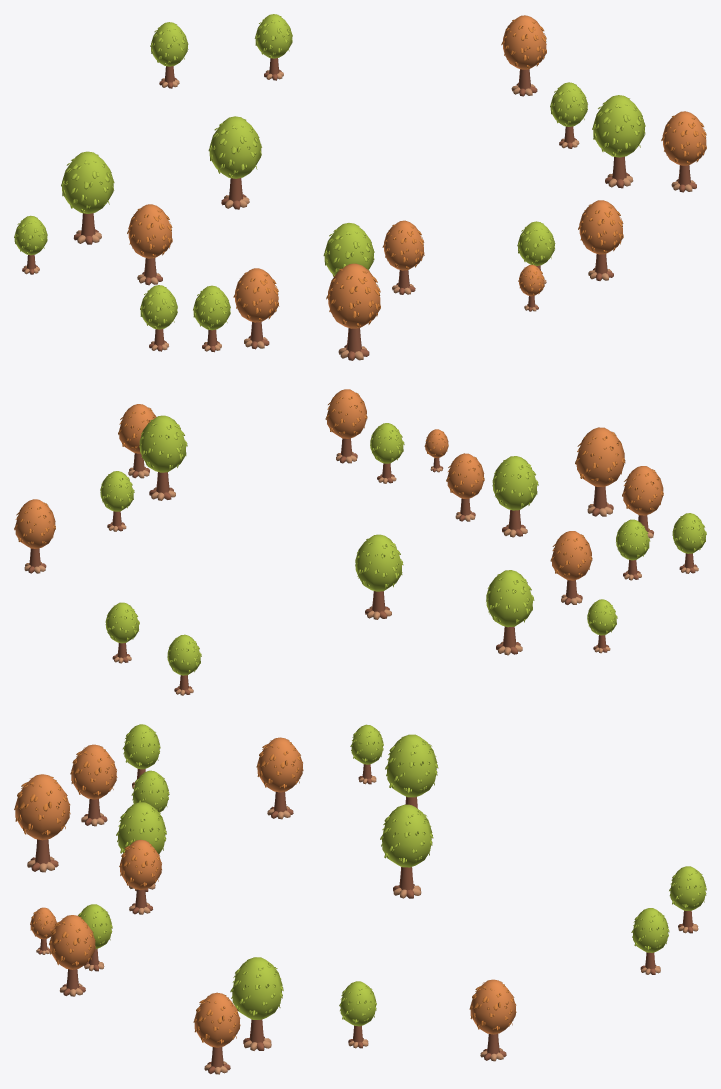
File: map2_agaclar.fbx
3 renders of one model, top to bottom at view 1: azimuth 30°, elevation 25°; view 2: azimuth 150°, elevation 25°; view 3: azimuth 270°, elevation 25°, orthographic. The views are drawn at different scales.
Visible parts, largest first — view 1: Retopo_ağaç.085; view 2: Retopo_ağaç.085; view 3: Retopo_ağaç.085.
Boxes of the visible parts, x1=… form: Retopo_ağaç.085: x1=14, y1=14, x2=706, y2=360; Retopo_ağaç.085: x1=14, y1=389, x2=706, y2=695; Retopo_ağaç.085: x1=14, y1=724, x2=706, y2=1074.
Size of the model in its own units: 1973 by 309 by 1908.
